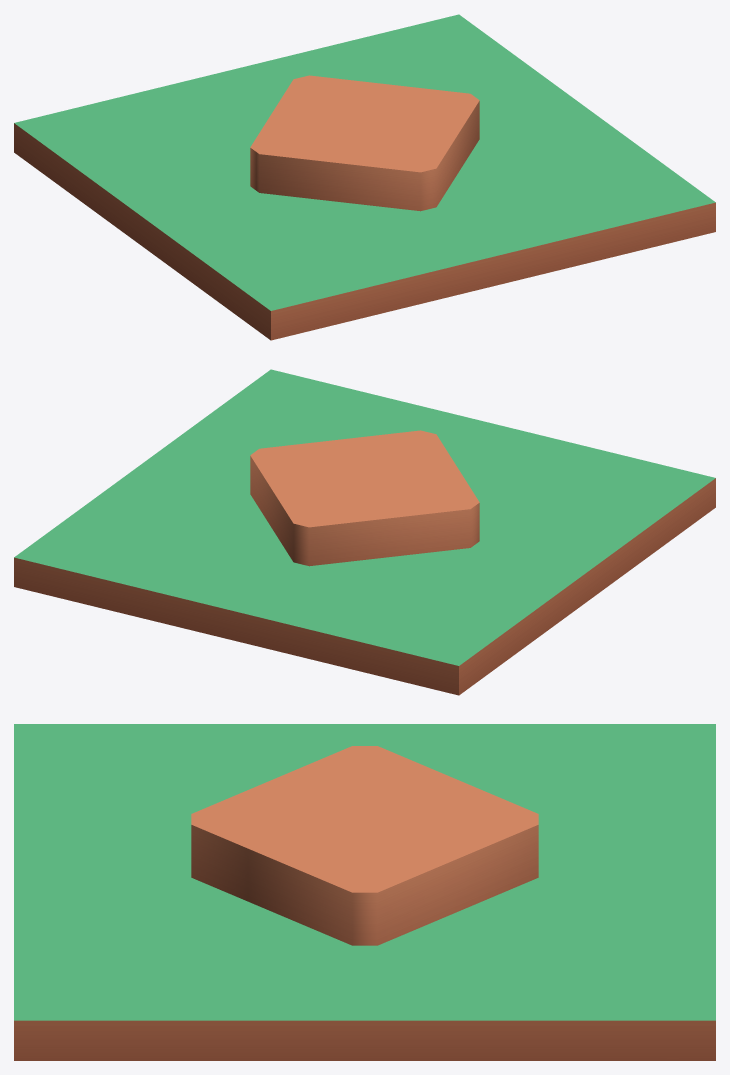
File: cc0-obstacle-diamond-lod0.glb
3 renders of one model, top to bottom at view 1: azimuth 30°, elevation 25°; view 2: azimuth 150°, elevation 25°; view 3: azimuth 270°, elevation 25°, orthographic. The views are drawn at different scales.
Parts seen in each view (by area): view 1: part_0; view 2: part_0; view 3: part_0.
Part boxes in pixels (<box>): part_0: <box>14,14,715,340</box>; part_0: <box>14,369,715,695</box>; part_0: <box>14,724,715,1060</box>.
Size of the model in its own units: 0.9999 by 0.1467 by 0.9999.
1 material, 1 textured.
